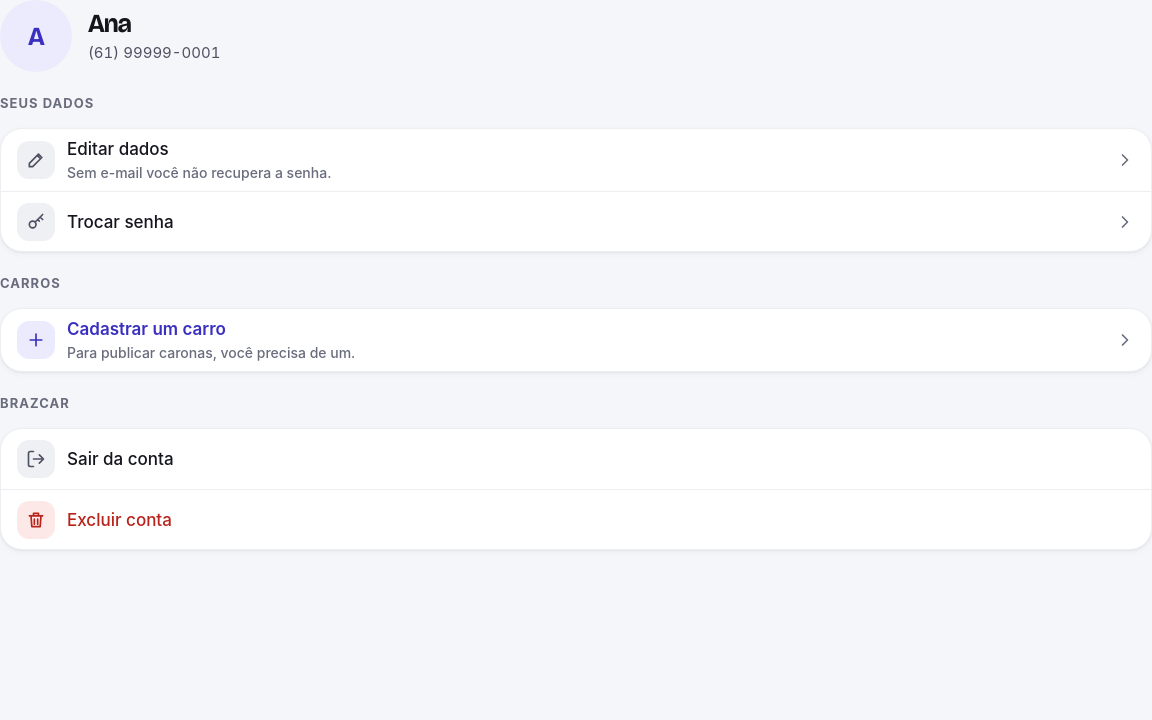
Test: AccountPanel delete control › a refused deletion shows the reason
Click the button "Excluir conta" at (36, 520), box [1, 489, 1151, 549]
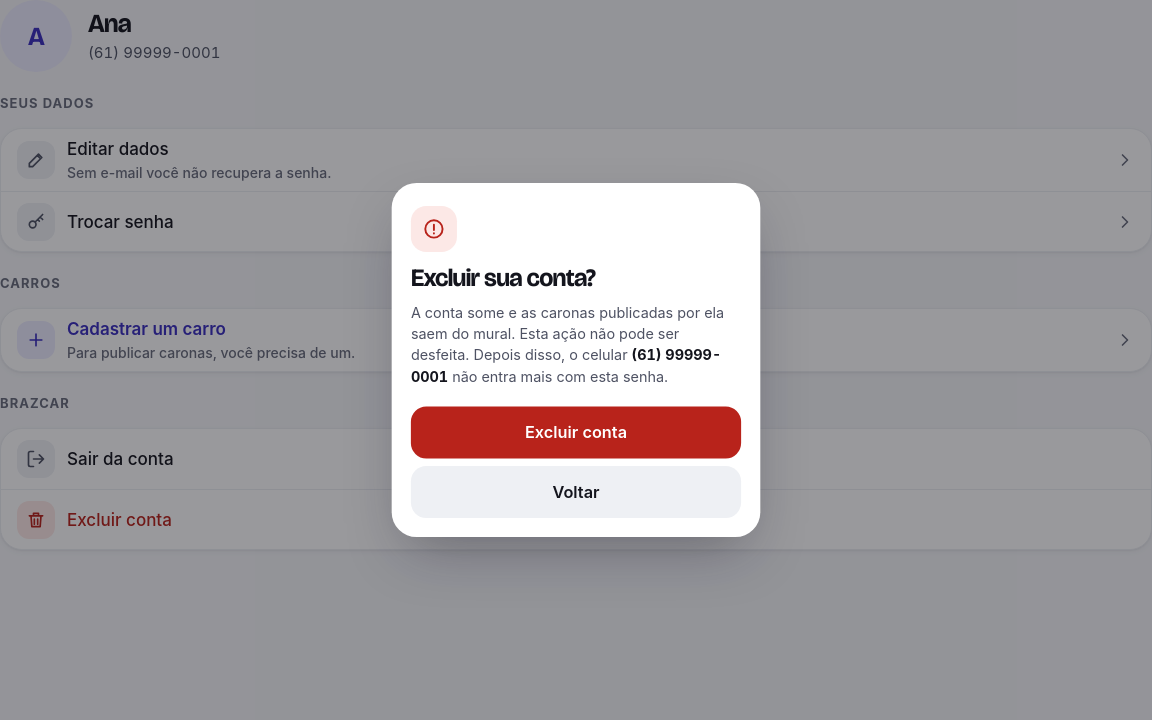
Click the button "Excluir conta" at (576, 432), box [411, 407, 741, 458]
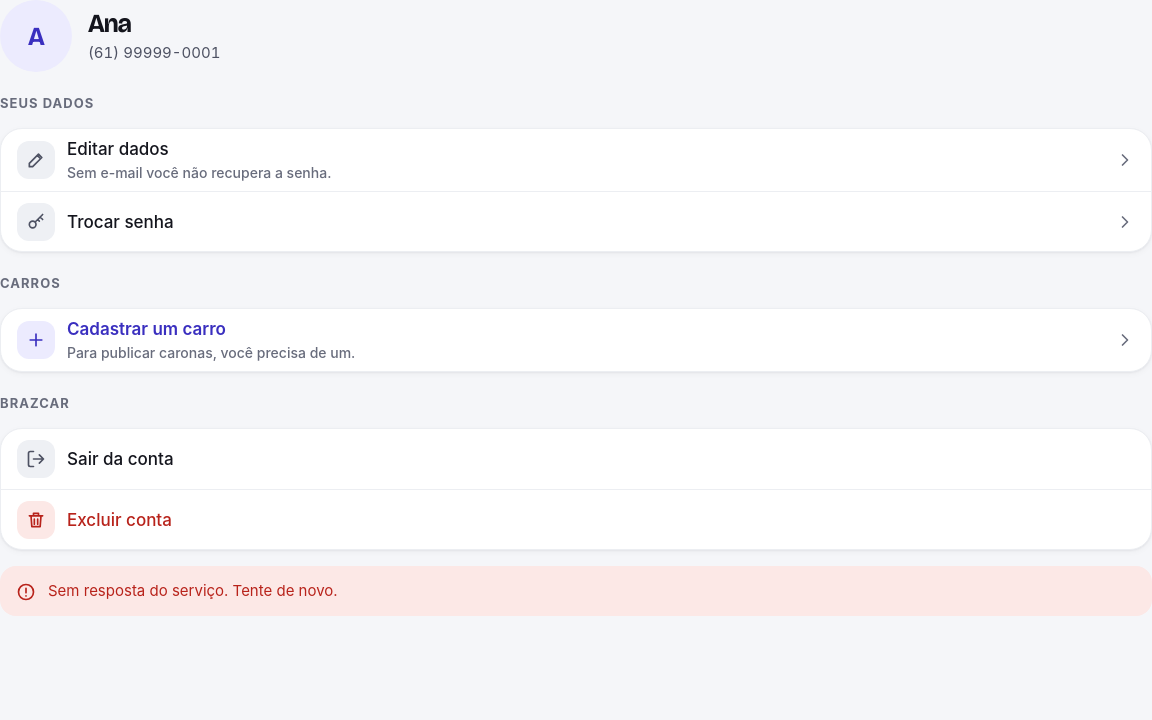
Expected: the message reads "Sem resposta do serviço. Tente de novo.", [48, 581, 338, 600]
